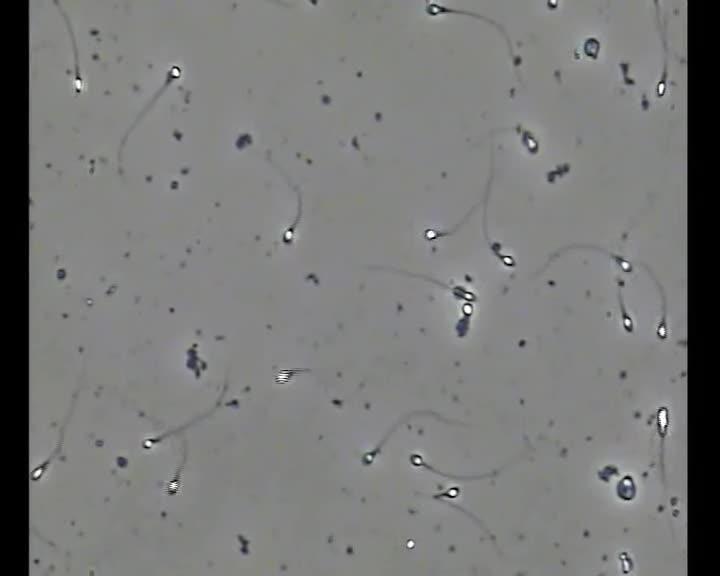spermhead: (517, 126, 538, 154), (616, 474, 637, 501), (655, 405, 669, 438), (597, 464, 619, 483), (583, 36, 600, 60), (617, 551, 633, 575), (452, 285, 476, 301), (425, 0, 447, 16), (455, 314, 470, 337), (31, 461, 48, 481), (274, 369, 294, 385), (166, 64, 183, 82), (614, 255, 632, 272), (71, 74, 86, 93), (362, 449, 377, 465), (443, 485, 460, 499), (409, 452, 424, 467), (142, 436, 158, 450), (282, 227, 295, 244), (656, 319, 667, 339), (622, 312, 633, 332), (167, 477, 179, 494), (656, 78, 666, 98), (500, 254, 515, 267), (218, 398, 239, 407), (489, 241, 502, 255), (462, 301, 473, 317), (424, 228, 438, 240), (547, 0, 558, 9), (407, 538, 415, 550), (86, 297, 94, 308)
